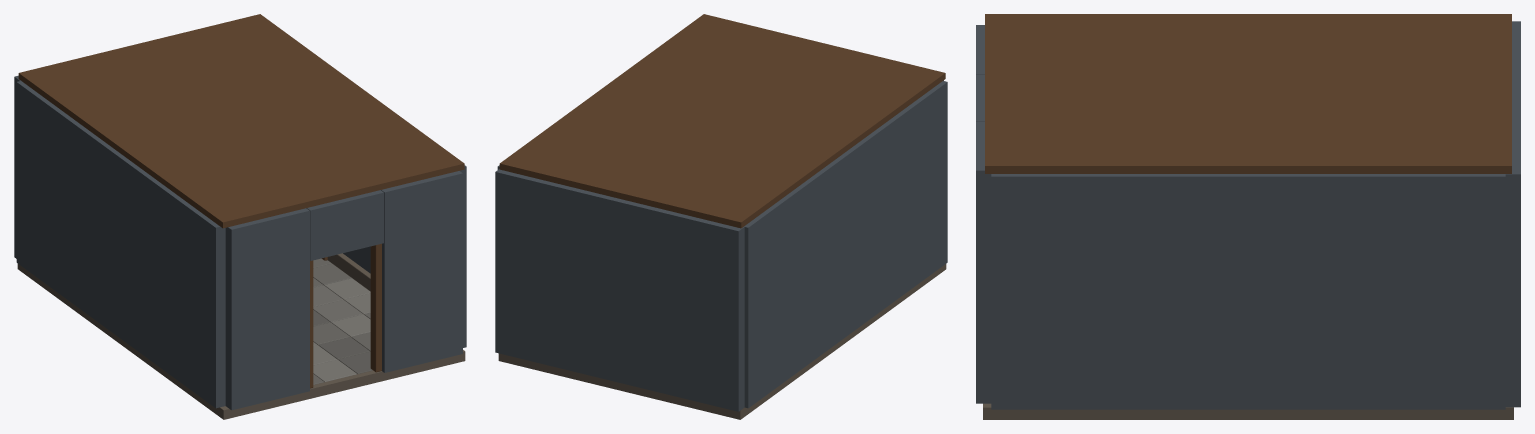
Rendered from forge_room.glb.
3 renders of one model, left to right at view 1: azimuth 30°, elevation 25°; view 2: azimuth 150°, elevation 25°; view 3: azimuth 270°, elevation 25°, orthographic. The views are drawn at different scales.
Visible parts, largest first — view 1: Ceiling, Side wall, Front wall, Front wall.001, Door lintel, Foundation, Slate tile 4 paving, Slate tile 2 paving, Door jamb.001, Slate tile 1 paving, Side wall.001, Slate tile 3 paving (+3 smaller); view 2: Ceiling, Back wall, Side wall, Foundation; view 3: Side wall.001, Ceiling, Foundation, Back wall, Front wall.001.
Part boxes in pixels (<box>): Ceiling: <box>18,14,464,228</box>; Side wall: <box>16,81,225,408</box>; Front wall: <box>225,208,309,410</box>; Front wall.001: <box>381,171,462,372</box>; Door lintel: <box>306,190,383,260</box>; Foundation: <box>17,264,465,419</box>; Slate tile 4 paving: <box>313,278,370,381</box>; Slate tile 2 paving: <box>313,258,370,384</box>; Door jamb.001: <box>370,243,381,372</box>; Slate tile 1 paving: <box>313,310,372,373</box>; Side wall.001: <box>343,165,466,347</box>; Slate tile 3 paving: <box>313,285,362,322</box>; Ceiling: <box>499,14,945,228</box>; Back wall: <box>495,169,744,411</box>; Side wall: <box>744,81,947,408</box>; Foundation: <box>498,264,946,419</box>; Side wall.001: <box>991,174,1505,409</box>; Ceiling: <box>985,14,1511,173</box>; Foundation: <box>983,403,1513,419</box>; Back wall: <box>1505,21,1520,407</box>; Front wall.001: <box>976,121,991,403</box>.
Bounding box in the file's own units: 4.36 × 3.27 × 6.36.
